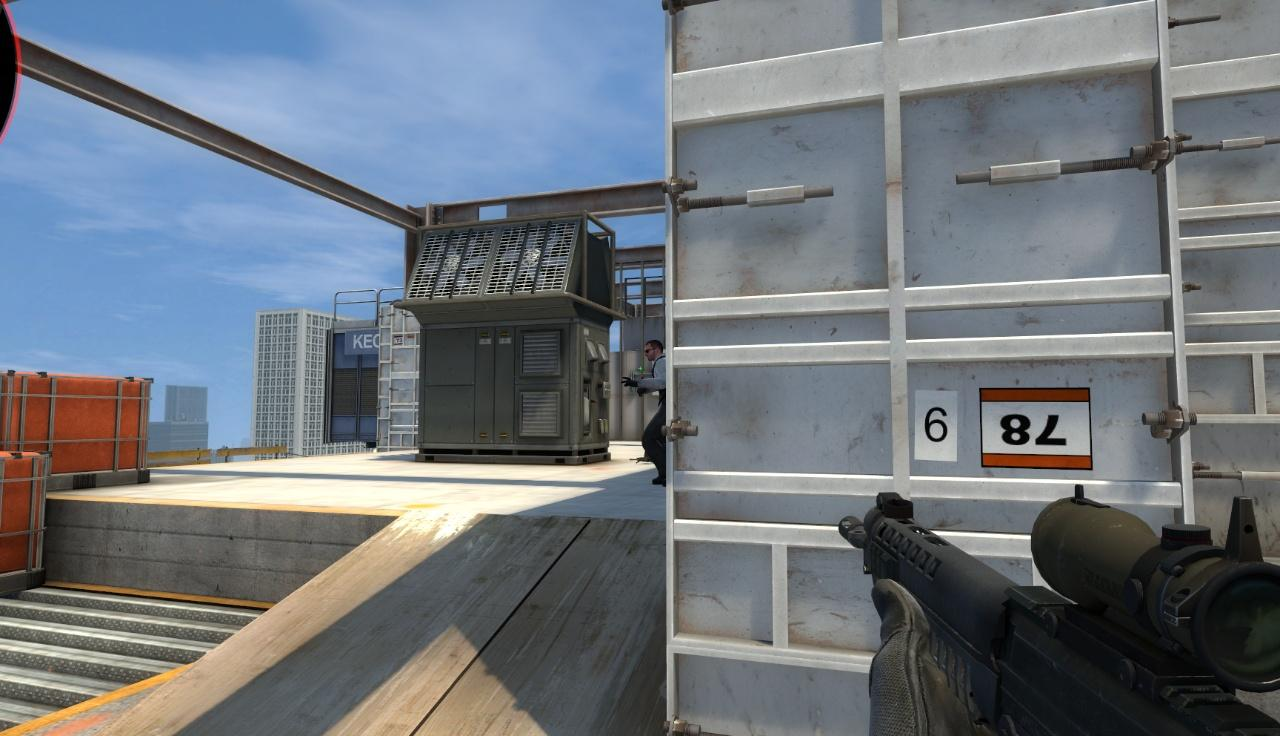rifle: (834, 476, 1280, 736)
tt: (636, 339, 666, 490)
tthead: (643, 340, 664, 362)
